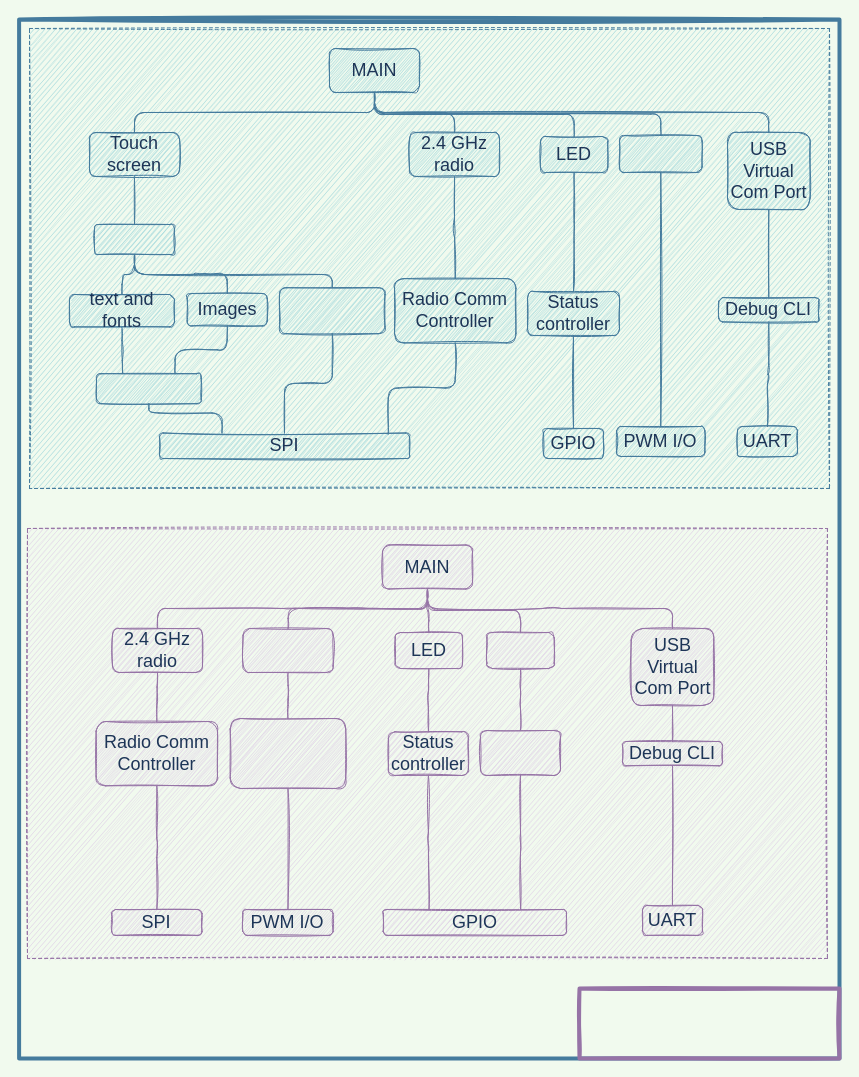
Image size: 859x1077. Some labels were removed from this diagram. The box of each missing label's shape, as (x1, y1, x2, y2) in pixels:
Backlight: (618, 134, 702, 172)
Encoder: (486, 632, 554, 668)
encoder driver: (480, 730, 560, 776)
Flash driver: (96, 373, 201, 404)
Hierarchy of control: (577, 986, 841, 1060)
Motors driver: (242, 628, 333, 672)
PID speed and direction regulation: (229, 718, 346, 788)
Remote controller: (28, 28, 830, 488)
Rendering: (94, 224, 174, 254)
Touch screen controller: (278, 287, 385, 334)
Vehicle controller: (26, 528, 828, 958)
